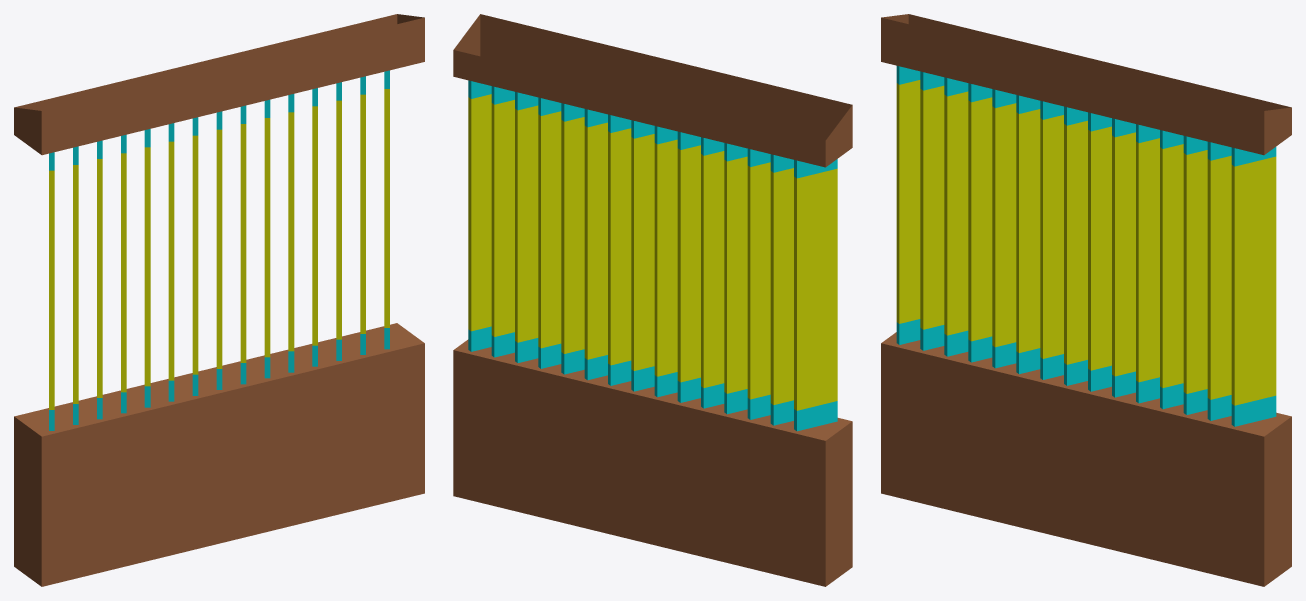
The model's file is Room_Deco_PlancheBois_V1.1.fbx.
The picture shows the model from 3 angles, left to right: view 1: azimuth 30°, elevation 25°; view 2: azimuth 150°, elevation 25°; view 3: azimuth 330°, elevation 25°; orthographic projection. The views are drawn at different scales.
Visible parts, largest first — view 1: pCube72; view 2: pCube72; view 3: pCube72.
Part boxes in pixels (x1,y1,x2,y2): pCube72: (14, 14, 424, 586); pCube72: (453, 14, 852, 586); pCube72: (881, 14, 1291, 586).
Bounding box in the file's own units: 400 × 475 × 50.
